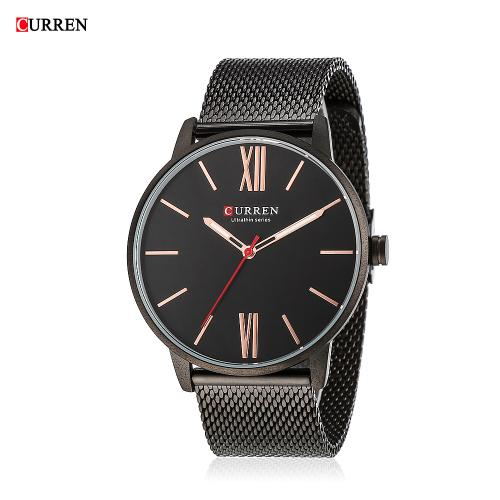watch: (124, 44, 397, 468)
